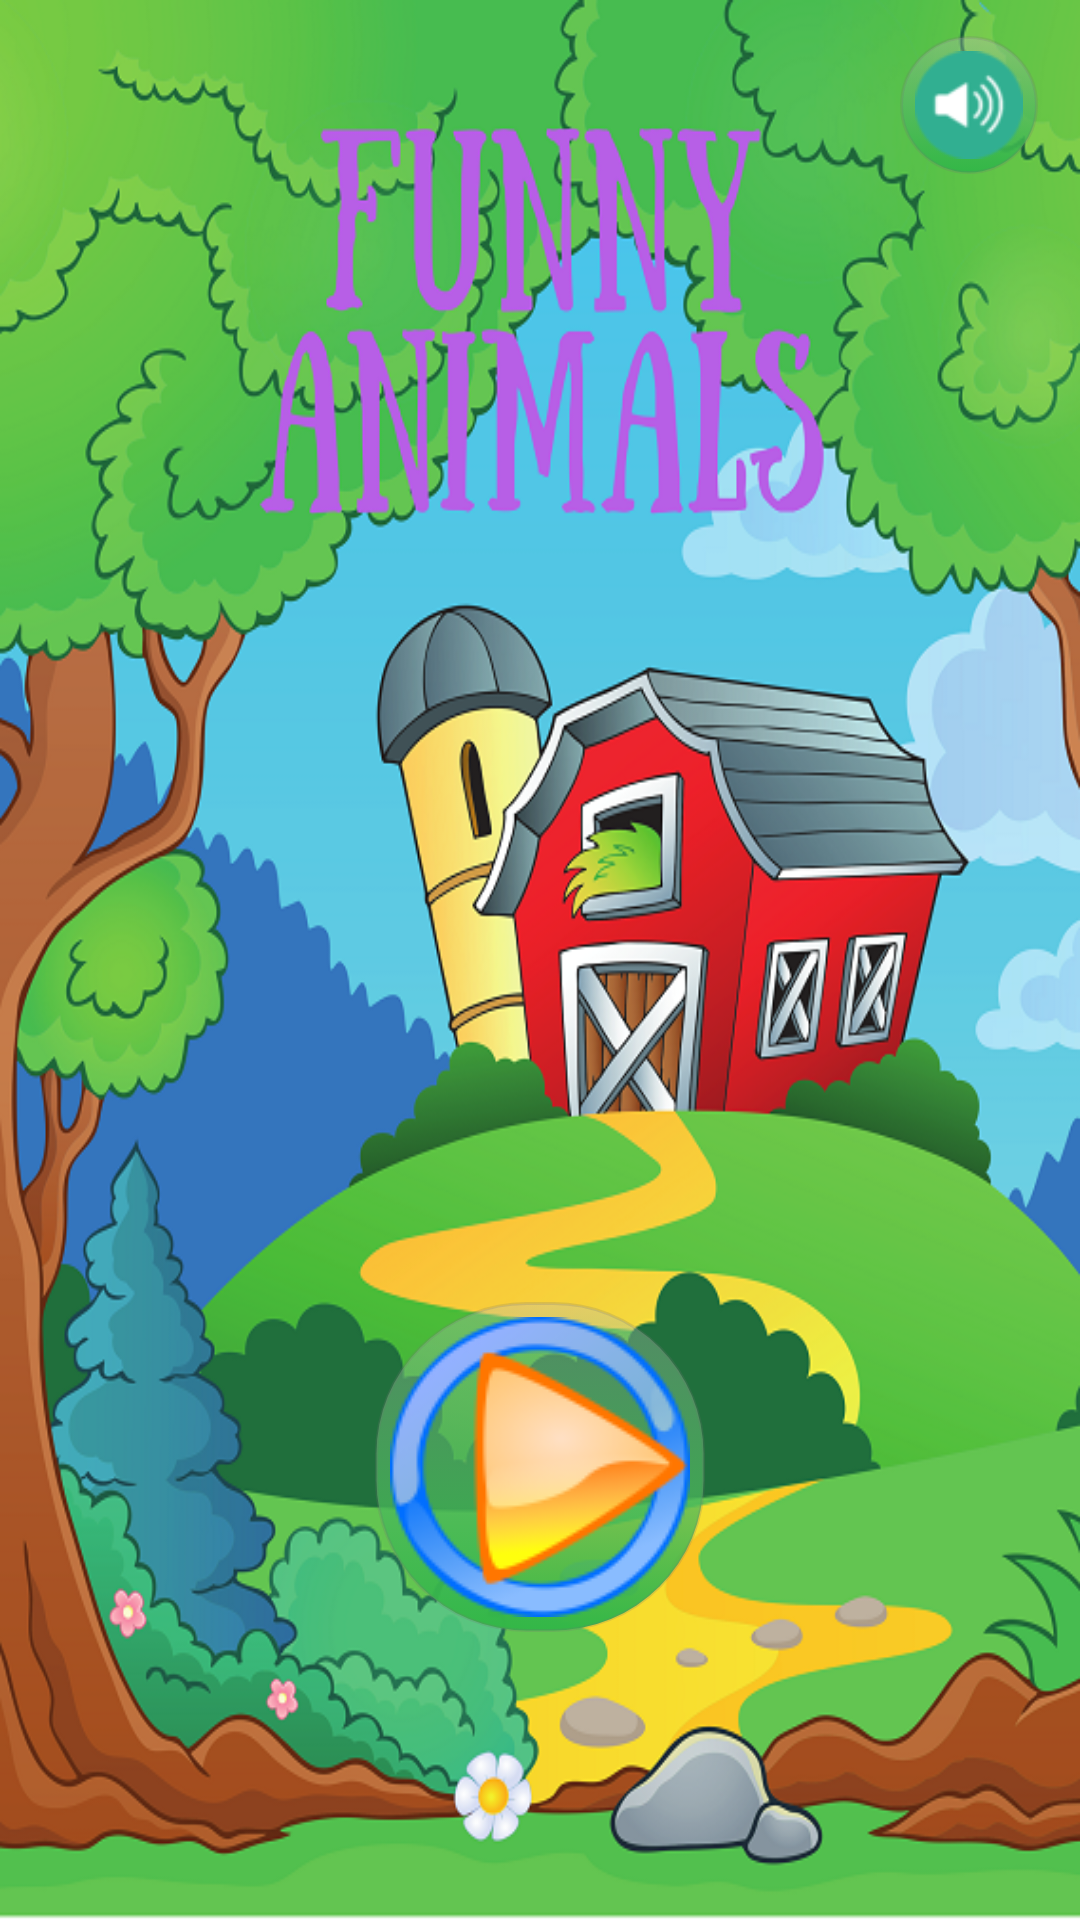

Where to tap for icons on this 1080 x 1920 app screen, as (x=x, y=y):
play size: (x=540, y=1467)
sound on: (x=970, y=104)
